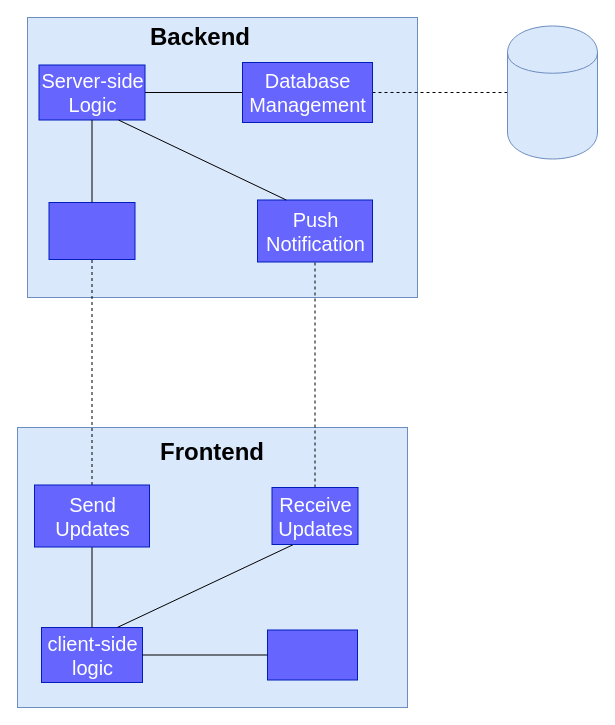
The diagram is 615 pixels wide and 725 high, and some of its shapes have lost their labels. The shapes that lost their labels are listed below. From the top down, each one's box as (x1, y1, x2, y2) in pixels, then its label:
(506, 25, 598, 159): DB
(48, 202, 135, 260): Get Updates
(266, 629, 358, 680): User Interface
